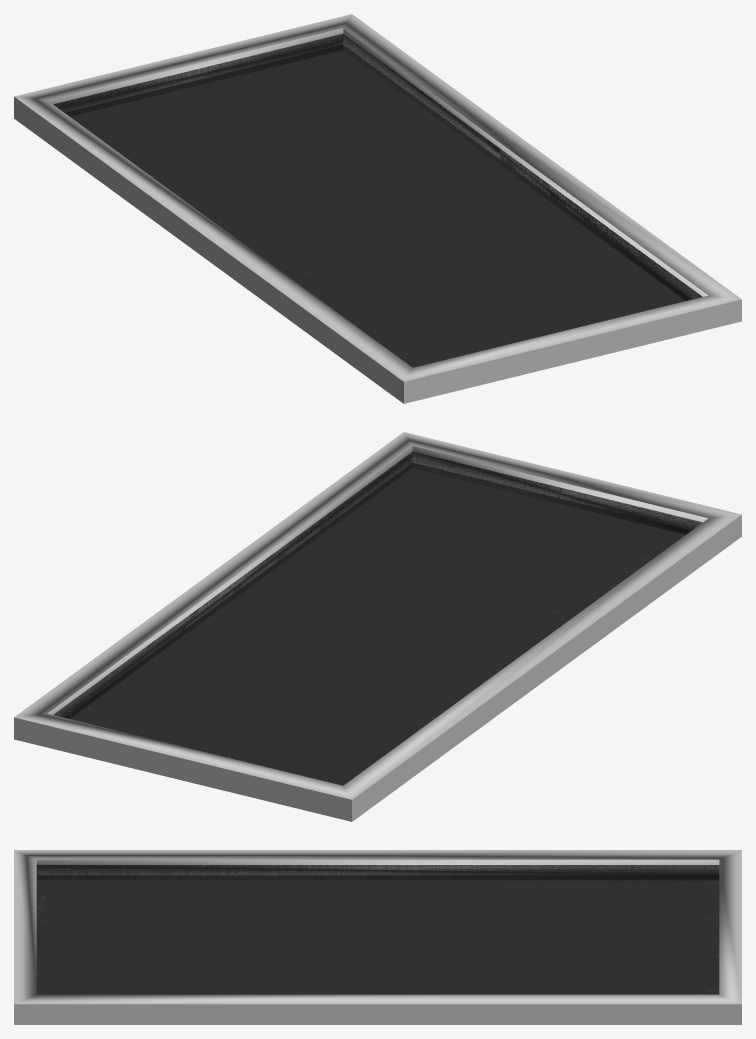
The model's file is glass_2x1.fbx.
The picture shows the model from 3 angles, top to bottom: view 1: azimuth 30°, elevation 25°; view 2: azimuth 150°, elevation 25°; view 3: azimuth 270°, elevation 25°; orthographic projection. The views are drawn at different scales.
Visible parts, largest first — view 1: glass_2x1; view 2: glass_2x1; view 3: glass_2x1.
Part boxes in pixels (<box>): glass_2x1: <box>14,14,741,403</box>; glass_2x1: <box>14,432,741,821</box>; glass_2x1: <box>14,850,741,1024</box>.
Size of the model in its own units: 40.05 by 2.5 by 79.97.
